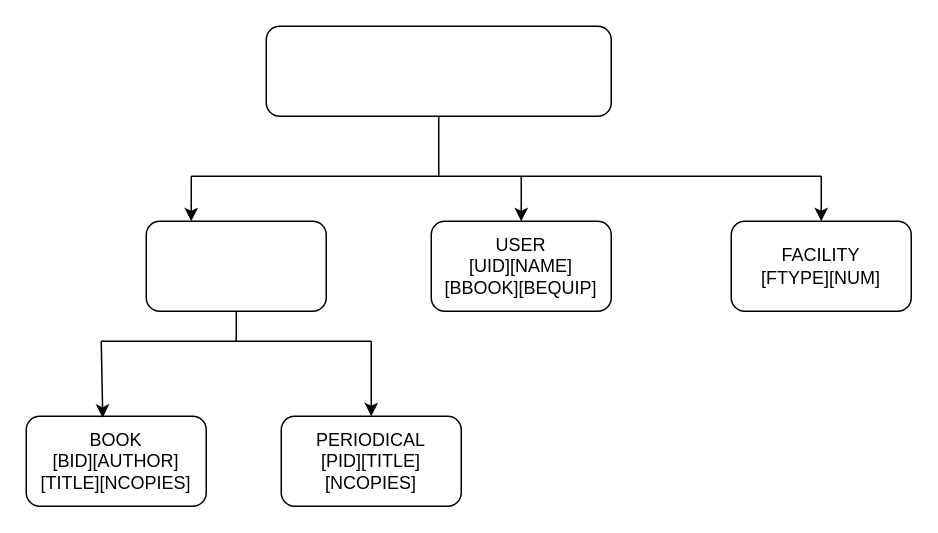
The diagram is 938 pixels wide and 533 high, and some of its shapes have lost their labels. The box of each missing label's shape, as (x1, y1, x2, y2) in pixels:
LIBRARY [LNAME]: (265, 25, 611, 116)
SECTION [STYPE]: (145, 220, 326, 311)
